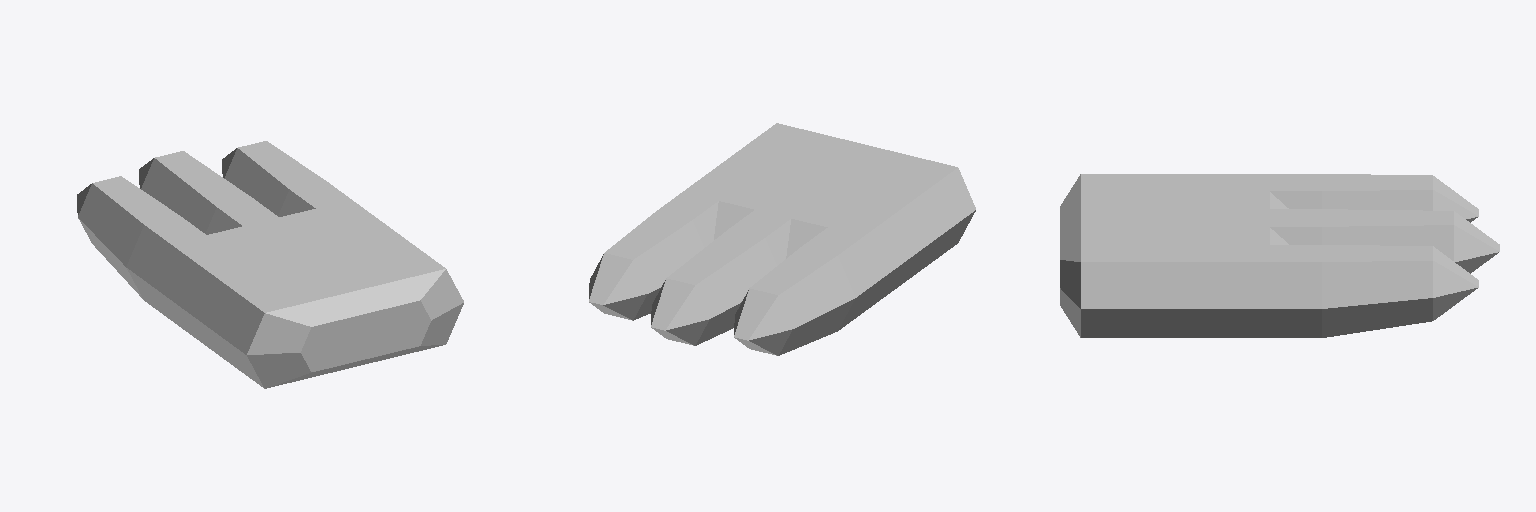
File: claw.obj
3 renders of one model, left to right at view 1: azimuth 30°, elevation 25°; view 2: azimuth 150°, elevation 25°; view 3: azimuth 270°, elevation 25°, orthographic.
Parts seen in each view (by area): view 1: Cylinder; view 2: Cylinder; view 3: Cylinder.
Part boxes in pixels (left/top/right/bottom): Cylinder: left=77, top=141, right=463, bottom=388; Cylinder: left=589, top=123, right=975, bottom=355; Cylinder: left=1060, top=174, right=1499, bottom=337.
Bounding box in the file's own units: 1.2 × 0.4 × 2.1.